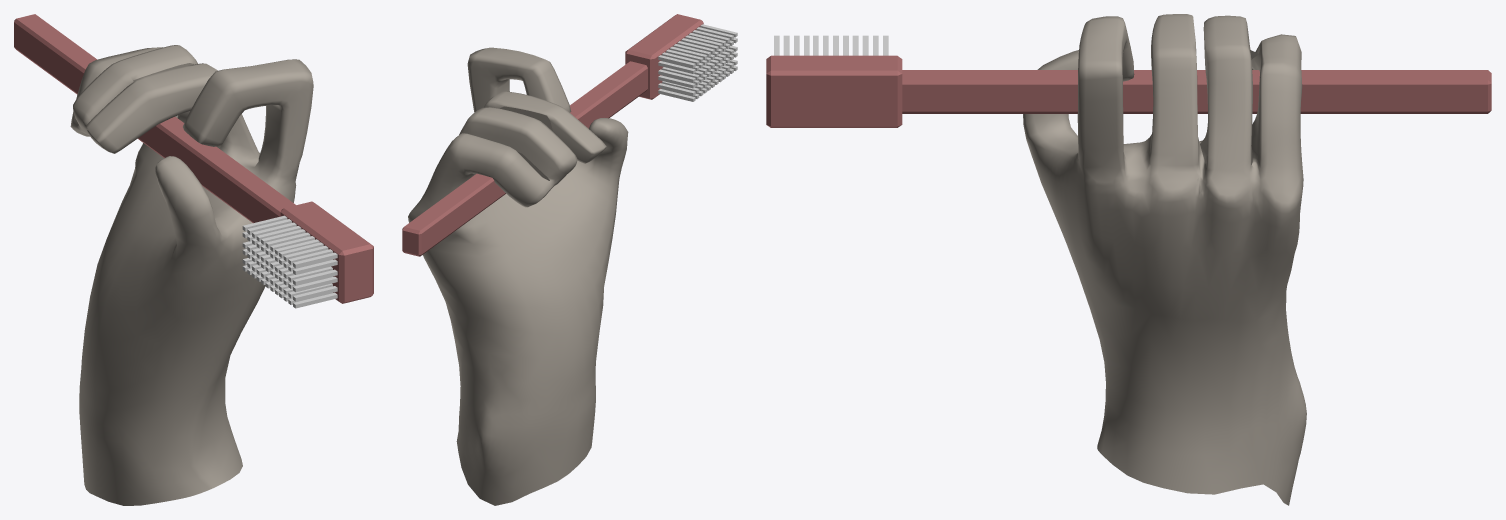
The model's file is Brush.fbx.
The picture shows the model from 3 angles, left to right: view 1: azimuth 30°, elevation 25°; view 2: azimuth 150°, elevation 25°; view 3: azimuth 270°, elevation 25°; orthographic projection. The views are drawn at different scales.
Parts seen in each view (by area): view 1: polySurface2; view 2: polySurface2; view 3: polySurface2.
Boxes of the visible parts, x1=… form: polySurface2: x1=14, y1=14, x2=373, y2=505; polySurface2: x1=402, y1=14, x2=737, y2=505; polySurface2: x1=766, y1=14, x2=1491, y2=505.
Size of the model in its own units: 59.39 by 142 by 187.
